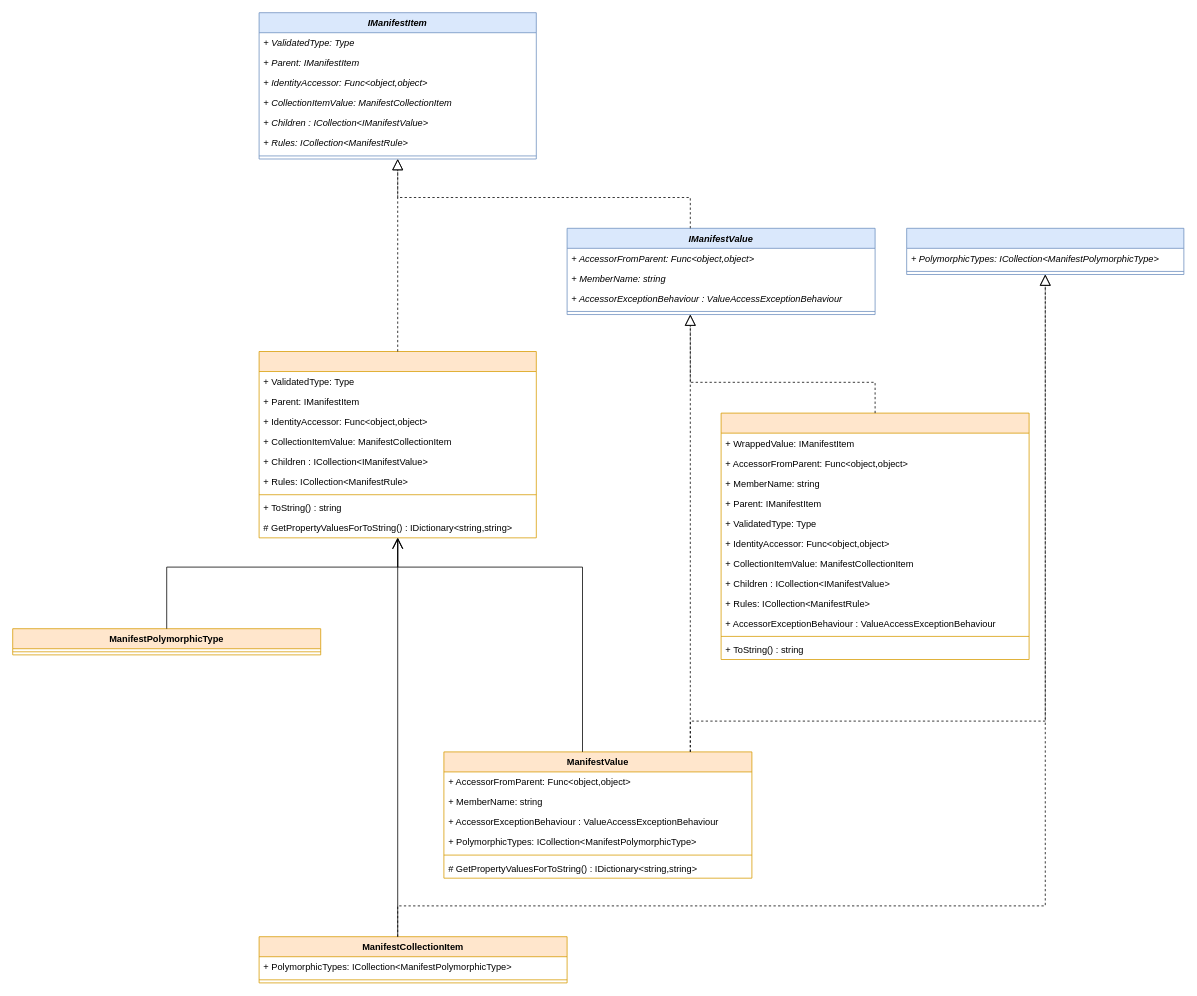
This 1197x996 diagram has some shape labels left out. Here are the shapes that lost their labels. From the top down, the box of each, then its label:
(906, 228, 1184, 275): IHasPolymorphicTypes
(258, 351, 536, 538): ManifestValueBase
(720, 412, 1029, 660): RecursiveManifestValue
